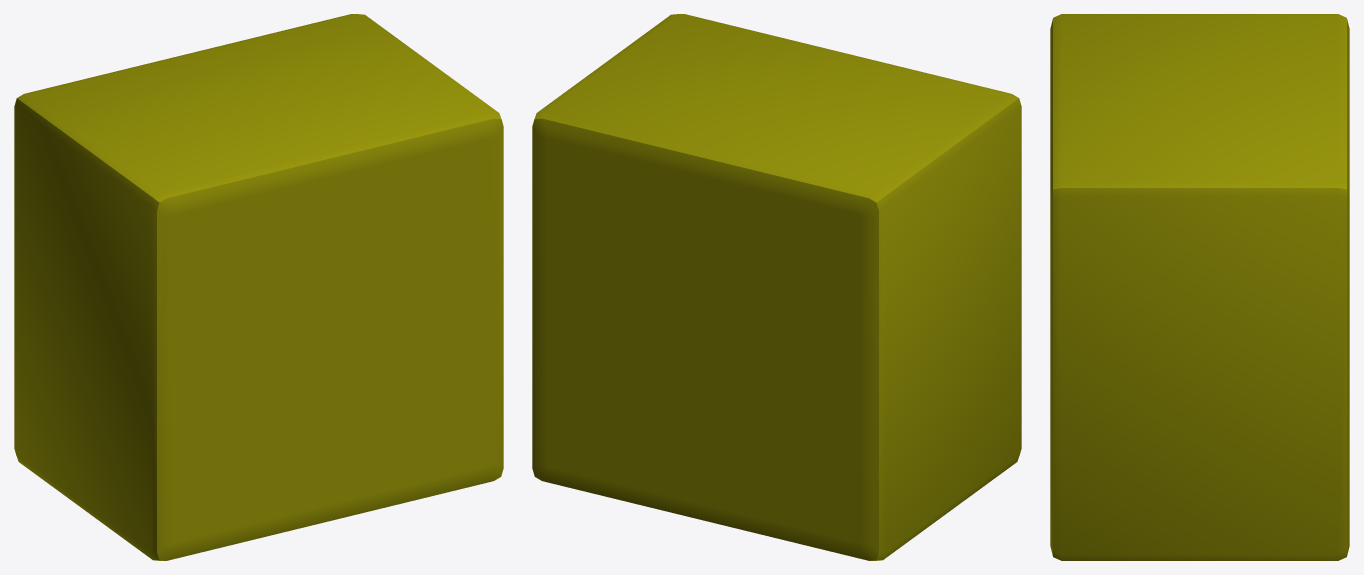
Rendered from Pipe Puzzle_P1 Pipe Button Modular_01.FBX.
3 views of the same model, side by side, from view 1: azimuth 30°, elevation 25°; view 2: azimuth 150°, elevation 25°; view 3: azimuth 270°, elevation 25° (orthographic). The views are drawn at different scales.
Parts seen in each view (by area): view 1: pipe button modular; view 2: pipe button modular; view 3: pipe button modular.
Boxes of the visible parts, box(x1,y1,x2,y2) form: pipe button modular: box(14, 14, 503, 560); pipe button modular: box(532, 14, 1021, 560); pipe button modular: box(1050, 14, 1349, 560).
Size of the model in its own units: 19.69 by 19.69 by 14.12.
